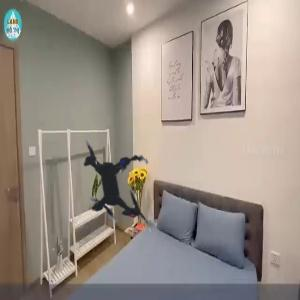drone: (35, 105, 200, 270)
